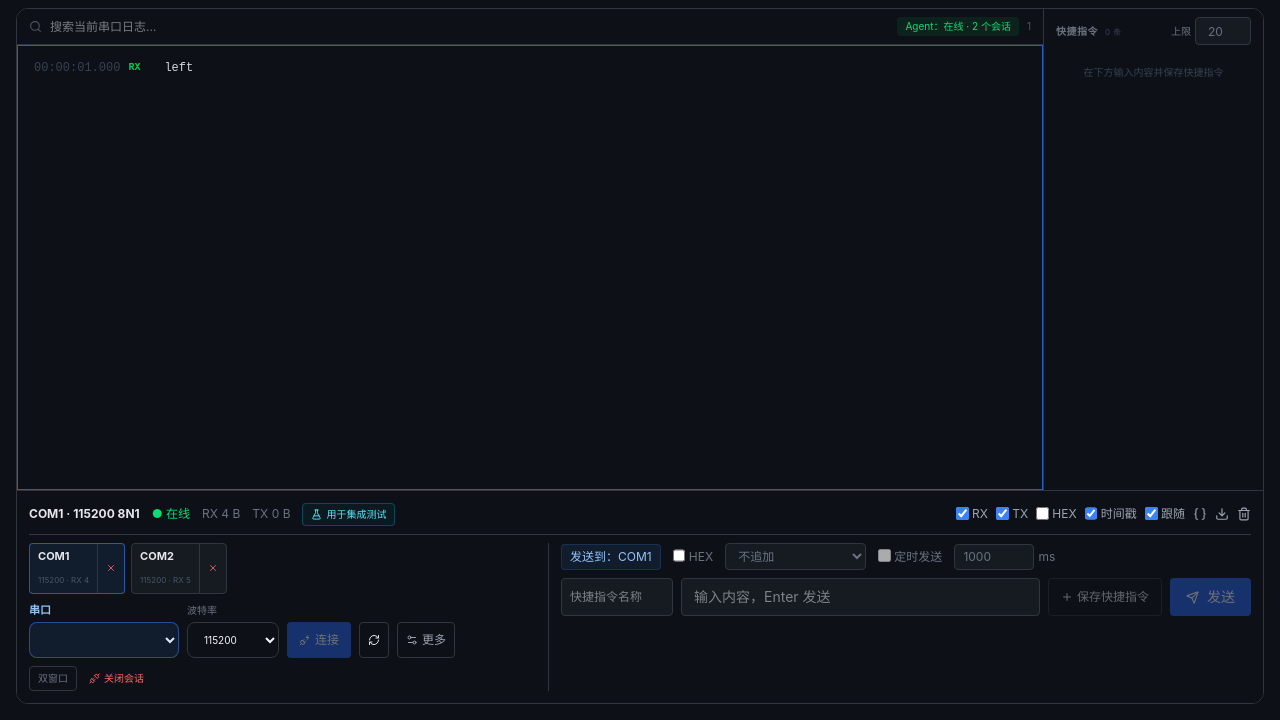
Test: AgentSerialDebugger independent degradation › keeps HEX display independent for the left and right split panes
The width and height of the screenshot is (1280, 720).
Click the button "双窗口": (53, 678) top-left (29, 666), bottom-right (77, 691)
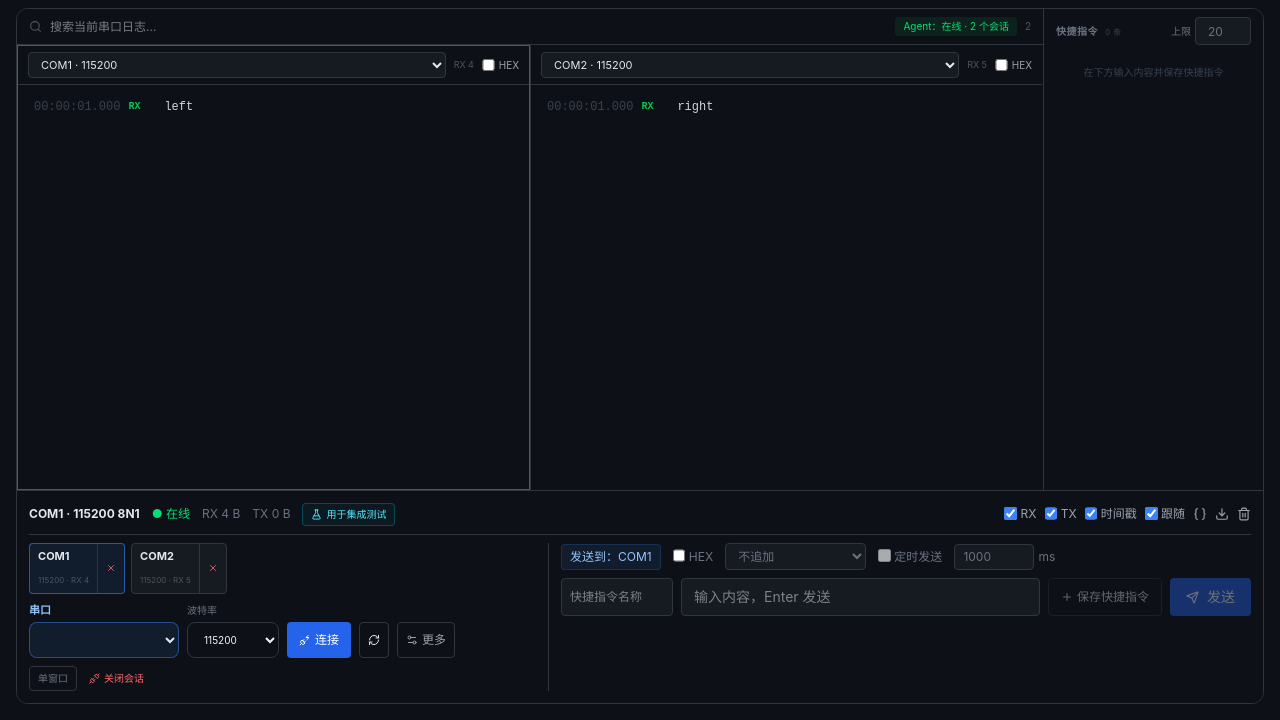
Expected: the checkbox named "右侧窗口 HEX" is not checked, top-left (995, 59), bottom-right (1008, 71)
Click the checkbox named "左侧窗口 HEX": (488, 65) top-left (482, 59), bottom-right (495, 71)
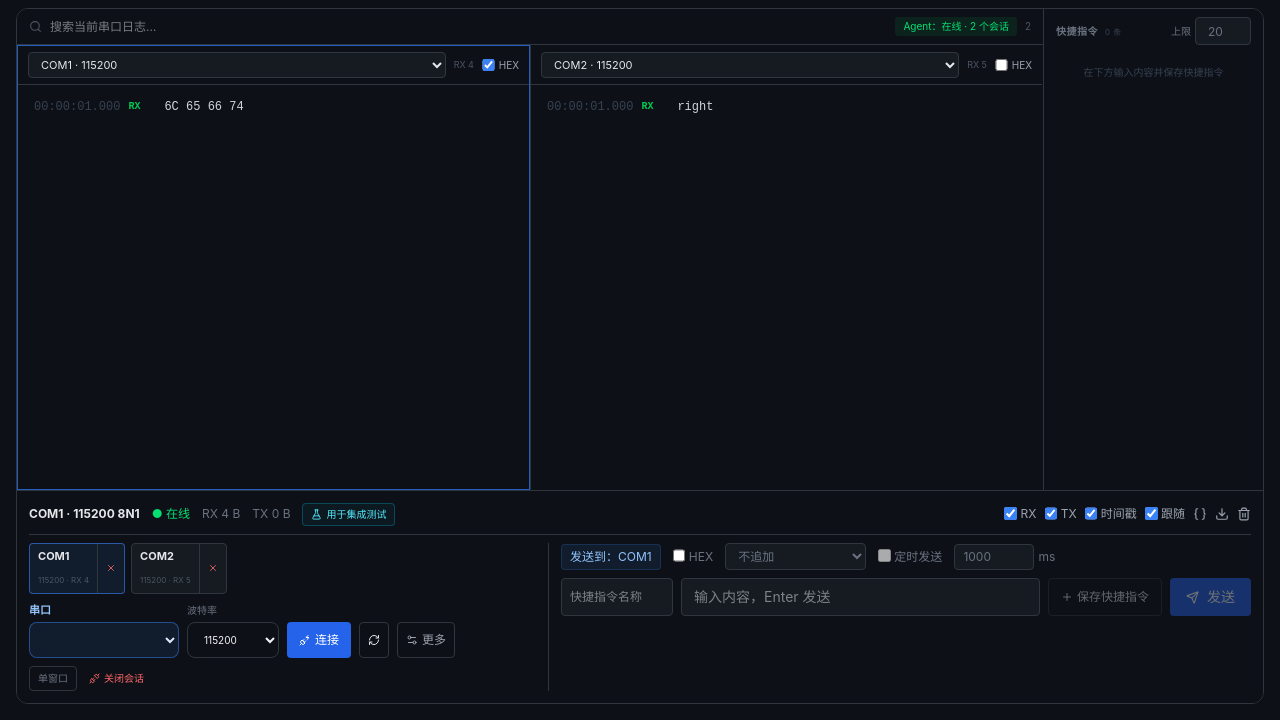
Expected: the checkbox named "右侧窗口 HEX" is not checked, top-left (995, 59), bottom-right (1008, 71)
Expected: the text "right" is shown, top-left (677, 97), bottom-right (713, 117)
Expected: the text "6C 65 66 74" is shown, top-left (164, 97), bottom-right (244, 117)
